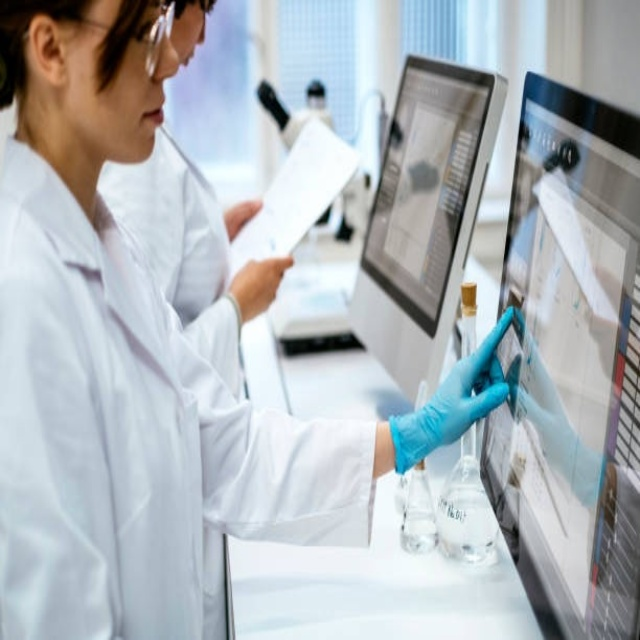Gafas: (32, 3, 178, 84)
Guantes: (388, 304, 518, 476), (511, 354, 609, 510)
Sin_guantes: (230, 244, 298, 324), (223, 198, 264, 244)
Sin_mascara: (123, 86, 169, 151)
